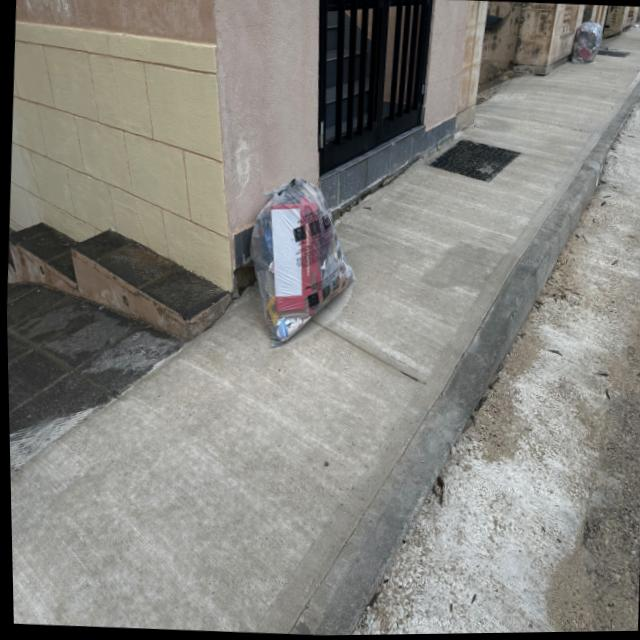Recyclable Material -Grey Bags-: (248, 179, 355, 348)
